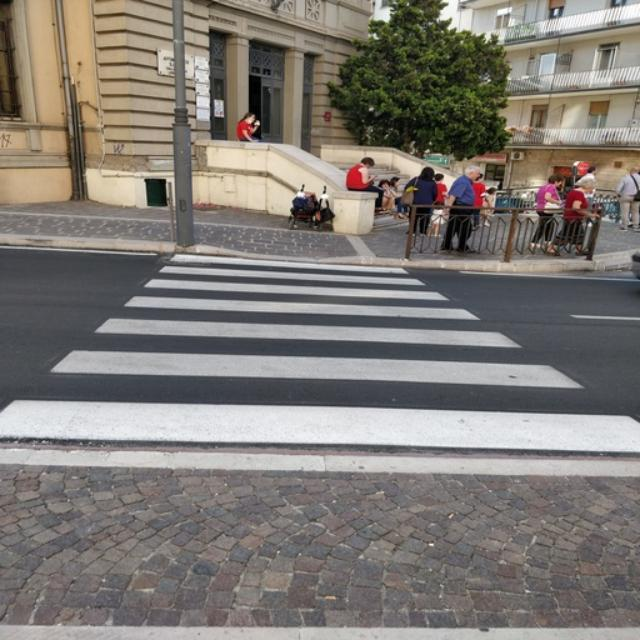sidewalk: (4, 255, 640, 454)
